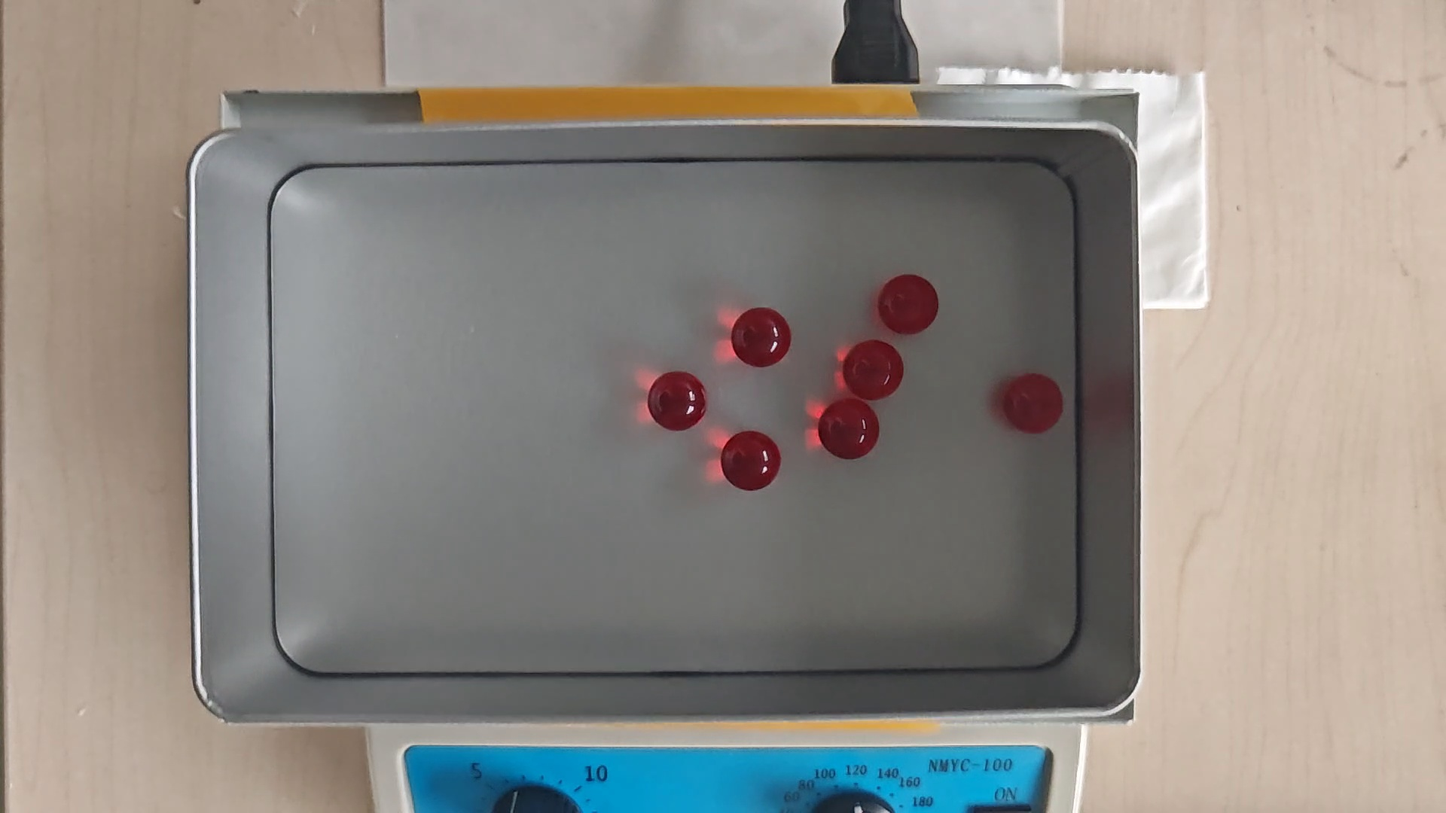ball: (816, 397, 881, 460), (841, 337, 904, 402), (719, 430, 783, 492), (645, 370, 708, 432), (729, 306, 792, 368), (877, 274, 940, 336), (1004, 373, 1064, 436)
container: (268, 157, 1082, 673)
